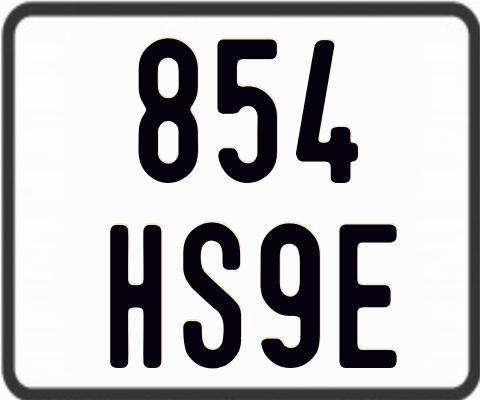4: (294, 39, 359, 185)
5: (216, 37, 279, 184)
8: (138, 35, 199, 182)
9: (258, 220, 322, 371)
E: (336, 223, 399, 373)
H: (108, 225, 162, 369)
S: (180, 221, 239, 373)
